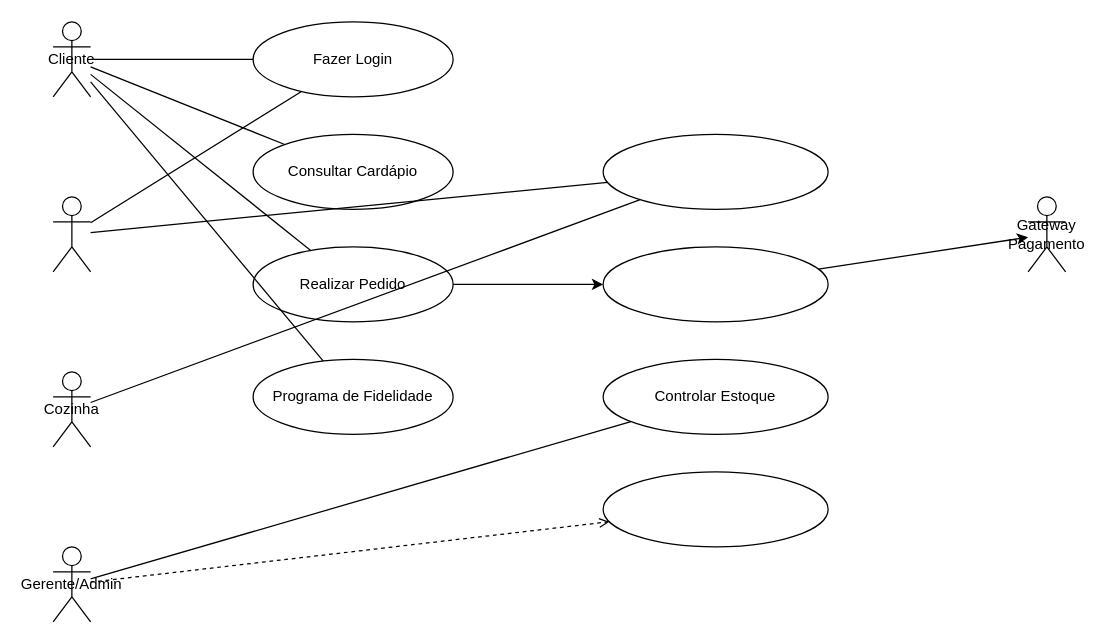
This 1106x644 diagram has some shape labels left out. Each missing label, with the centre of its shape:
Atendente: pixel 71 234
Atualizar Status Pedido: pixel 715 171
Gerenciar Produtos: pixel 715 509
Solicitar Pagamento Mock: pixel 715 284
